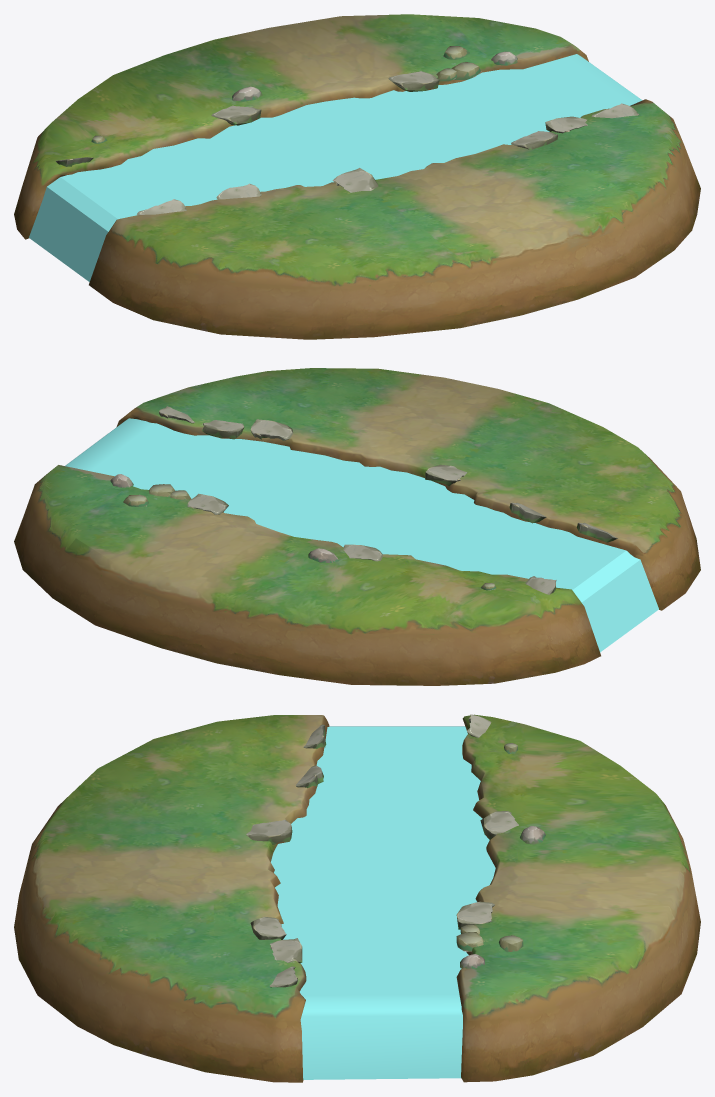
File: Environment_xiaohe_01.FBX
3 renders of one model, top to bottom at view 1: azimuth 30°, elevation 25°; view 2: azimuth 150°, elevation 25°; view 3: azimuth 270°, elevation 25°, orthographic. The views are drawn at different scales.
Visible parts, largest first — view 1: Environment_xiaohe_01, shui; view 2: Environment_xiaohe_01, shui; view 3: Environment_xiaohe_01, shui.
Part boxes in pixels (x1,y1,x2,y2): Environment_xiaohe_01: [14, 14, 700, 339]; shui: [29, 54, 642, 281]; Environment_xiaohe_01: [14, 368, 700, 685]; shui: [65, 418, 658, 652]; Environment_xiaohe_01: [14, 714, 700, 1082]; shui: [271, 726, 495, 1079].
Size of the model in its own units: 1240 by 140 by 1138.
